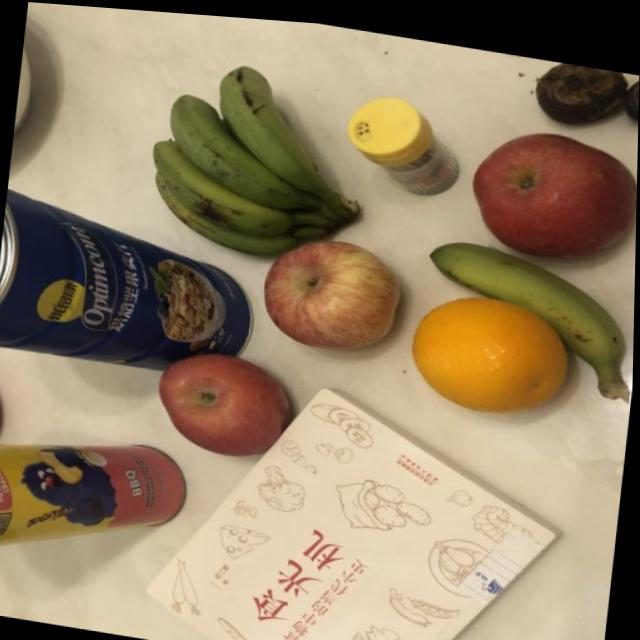Apple: (440, 93, 639, 265), (136, 321, 312, 469), (234, 219, 413, 359)
Banana: (118, 47, 375, 272), (397, 227, 636, 398)
Book: (107, 342, 595, 640)
Orange: (387, 259, 584, 432)
